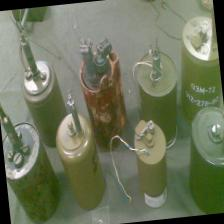OZM-72: (73, 32, 132, 146), (0, 115, 60, 224), (54, 110, 110, 213), (130, 118, 180, 217), (174, 14, 224, 112), (14, 42, 67, 128), (183, 105, 224, 216), (130, 37, 178, 122)
